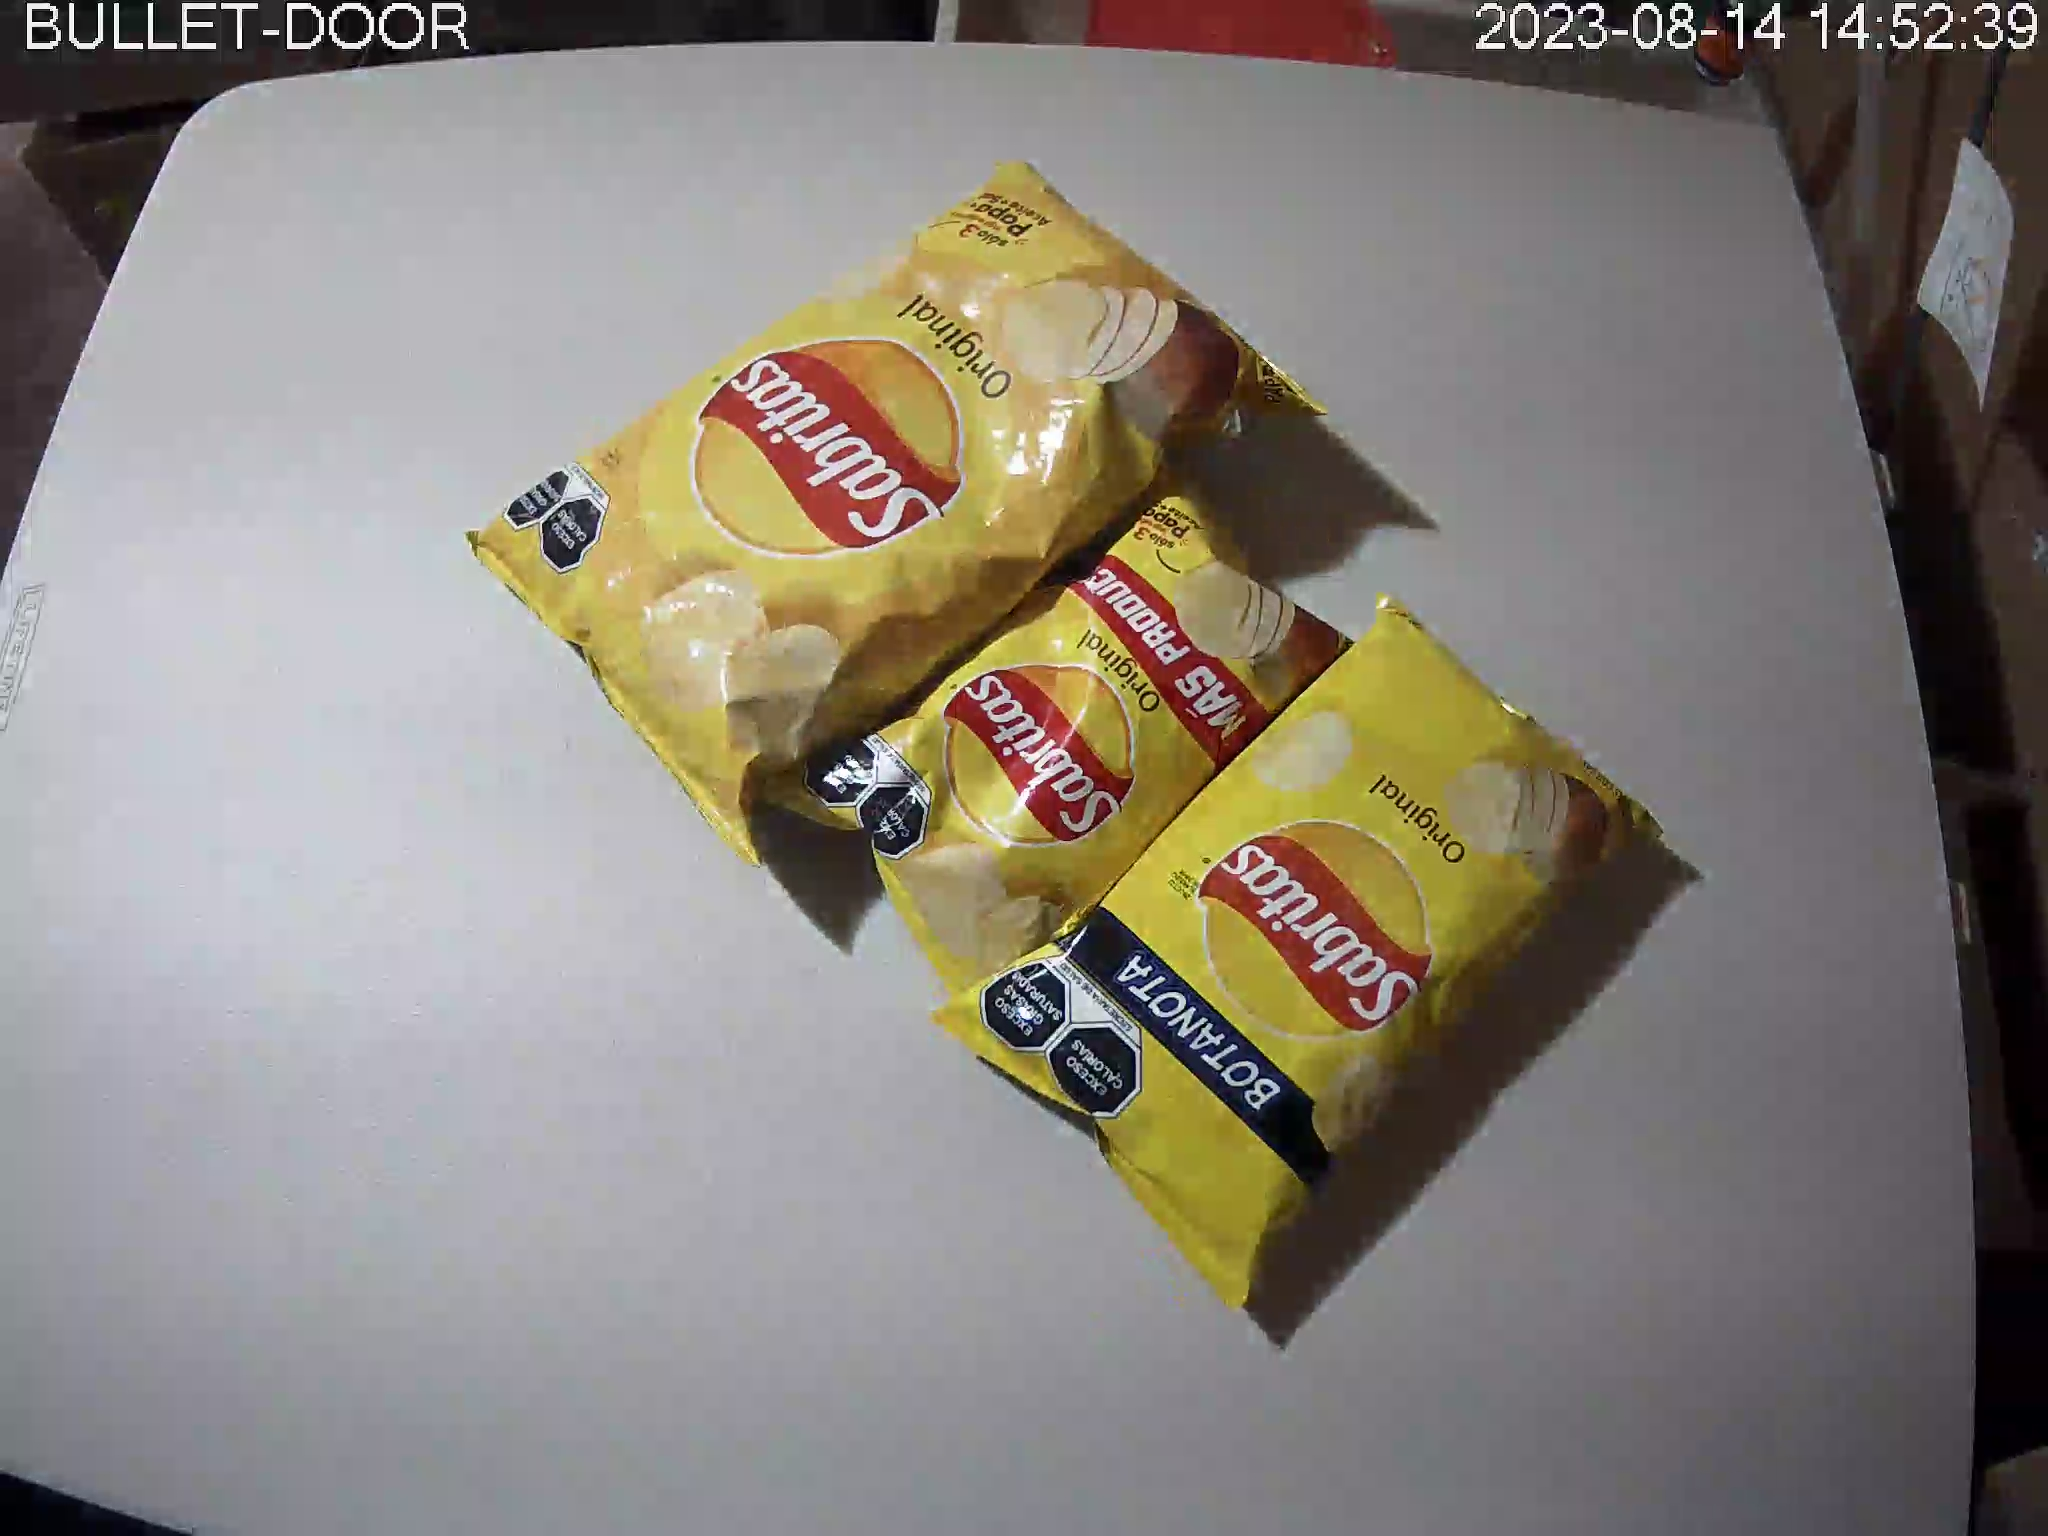Sabritas_160_F: (463, 157, 1334, 865)
Sabritas_45_F: (763, 463, 1367, 1018)
Sabritas_64_F: (932, 592, 1661, 1310)
